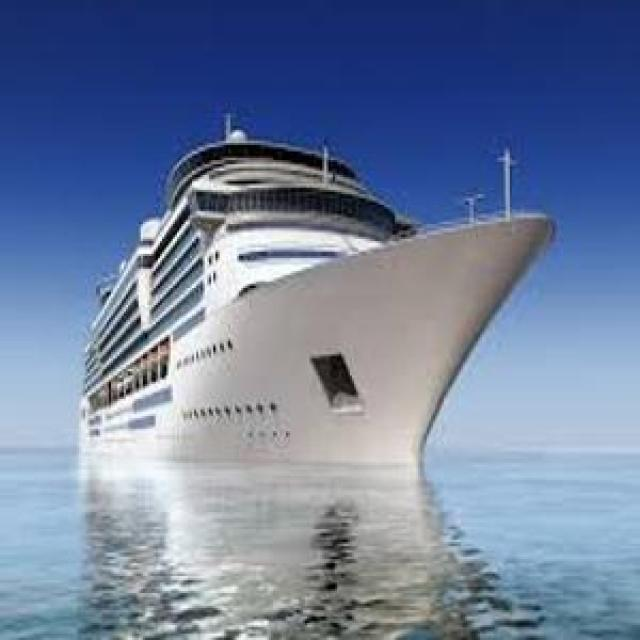passenger ship: (73, 119, 541, 465)
